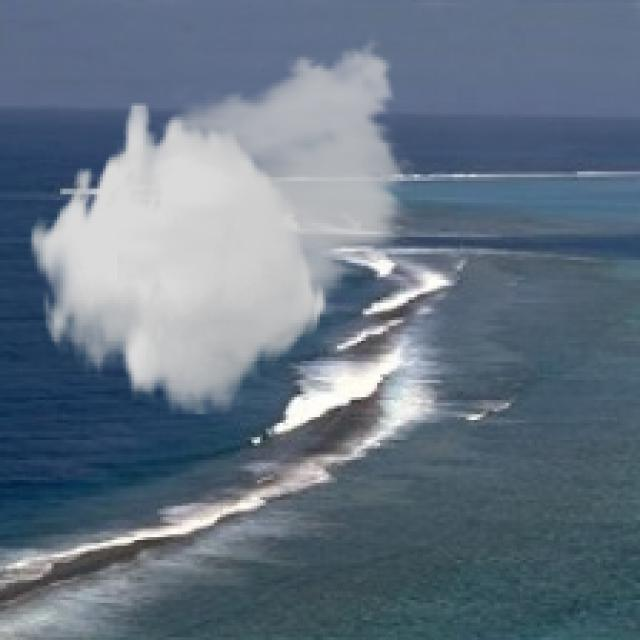smoke: (29, 32, 417, 414)
